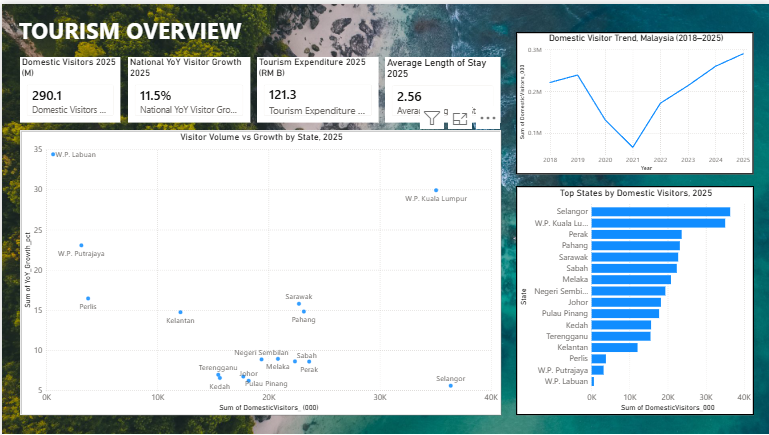

What the dashboard file says about the page in this screenshot:
{"tool":"powerbi","page":{"name":"03 Tourism Overview","canvas":[1920,1080],"ordinal":2},"visuals":[{"type":"cardVisual","title":"Domestic Visitors 2025 (M)","fields":{"Data":["State_Trend.Domestic Visitors 2025 (M)"]},"box":[44.3,131.4,251.4,164.3],"z":0},{"type":"cardVisual","title":"National YoY Visitor Growth 2025","fields":{"Data":["State_Trend.National YoY Visitor Growth 2025"]},"box":[314.3,131.4,305.7,164.3],"z":1000},{"type":"cardVisual","title":"Tourism Expenditure 2025 (RM B)","fields":{"Data":["National_KPI.Tourism Expenditure 2025 (RM B)"]},"box":[637.1,131.4,304.3,164.3],"z":2000},{"type":"cardVisual","title":"Average Length of Stay 2025","fields":{"Data":["National_KPI.Average Length of Stay 2025"]},"box":[958.6,131.4,288.6,164.3],"z":3000},{"type":"lineChart","title":"Domestic Visitor Trend, Malaysia (2018–2025)","fields":{"Category":["State_Trend.Year"],"Y":["Sum(State_Trend.DomesticVisitors_000)"]},"box":[1286,70,594,356],"z":4000},{"type":"barChart","title":"Top States by Domestic Visitors, 2025","fields":{"Category":["State_Trend.State"],"Y":["Sum(State_Trend.DomesticVisitors_000)"]},"box":[1285,455,595,572.5],"z":5000},{"type":"scatterChart","title":"Visitor Volume vs Growth by State, 2025","fields":{"Category":["State_Trend.State"],"X":["Sum(State_Trend.DomesticVisitors_000)"],"Y":["Sum(State_Trend.YoY_Growth_pct)"]},"box":[45,315,1202.5,712.5],"z":6000},{"type":"textbox","box":[38,22,614,96],"z":7000}]}

Visuals, with their boxes in screenshot pixels (x1, y1, x2, y2), scaled from the page's 1920x1080 canvas onto the 769x435 screenshot:
"Domestic Visitors 2025 (M)" cardVisual: locate(18, 53, 118, 119)
"National YoY Visitor Growth 2025" cardVisual: locate(126, 53, 248, 119)
"Tourism Expenditure 2025 (RM B)" cardVisual: locate(255, 53, 377, 119)
"Average Length of Stay 2025" cardVisual: locate(384, 53, 500, 119)
"Domestic Visitor Trend, Malaysia (2018–2025)" lineChart: locate(515, 28, 753, 172)
"Top States by Domestic Visitors, 2025" barChart: locate(515, 183, 753, 414)
"Visitor Volume vs Growth by State, 2025" scatterChart: locate(18, 127, 500, 414)
textbox: locate(15, 9, 261, 48)
